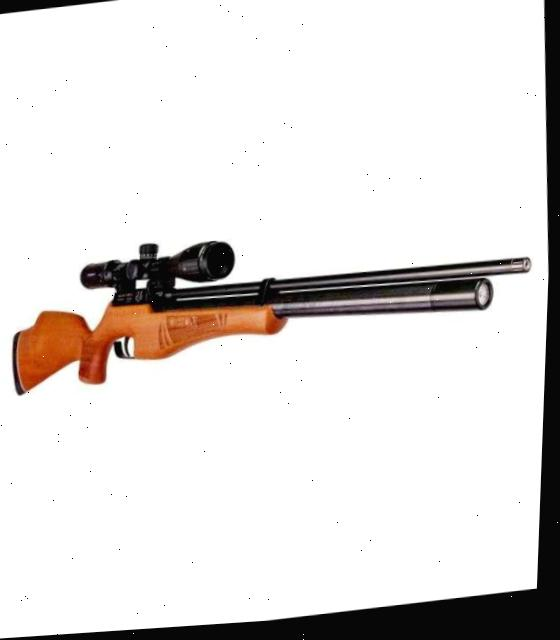rifle: (0, 196, 539, 446)
